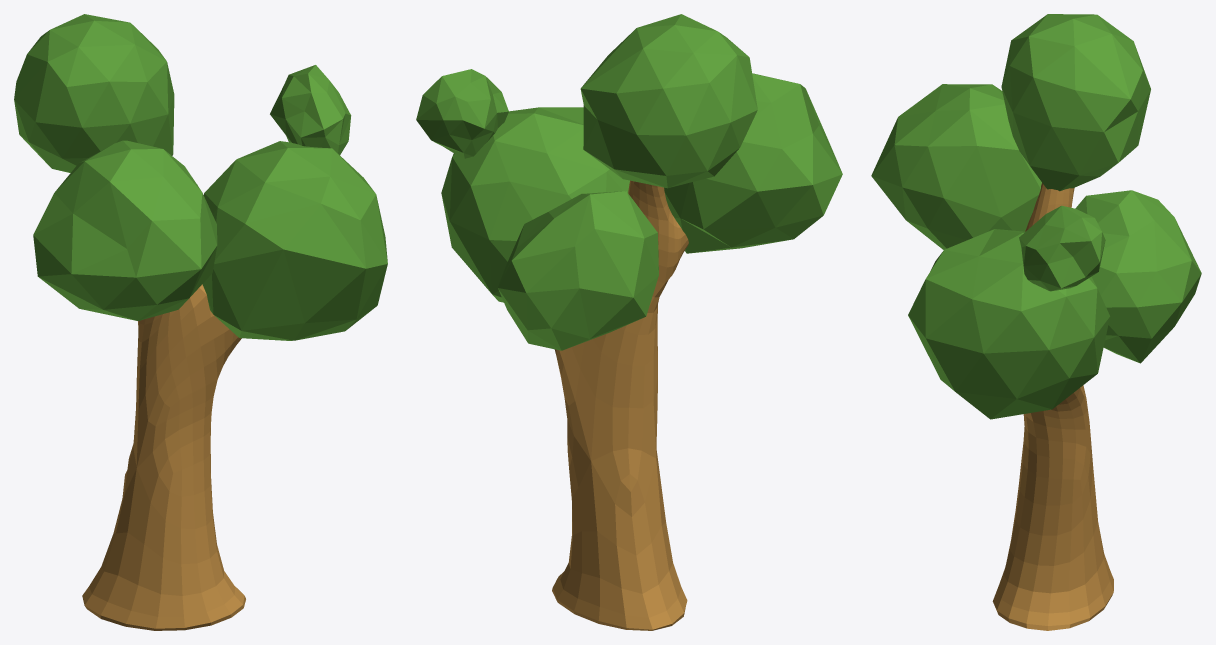
Rendered from result.gltf.
The picture shows the model from 3 angles, left to right: view 1: azimuth 30°, elevation 25°; view 2: azimuth 150°, elevation 25°; view 3: azimuth 270°, elevation 25°; orthographic projection. The views are drawn at different scales.
Parts seen in each view (by area): view 1: Leaves, Tree_2; view 2: Leaves, Tree_2; view 3: Leaves, Tree_2.
Part boxes in pixels (x1,y1,x2,y2): Leaves: (14, 14, 387, 340); Tree_2: (82, 284, 245, 630); Leaves: (416, 14, 842, 350); Tree_2: (552, 180, 688, 630); Leaves: (871, 14, 1201, 419); Tree_2: (992, 183, 1113, 630).
Bounding box in the file's own units: 682 × 1104 × 597.
